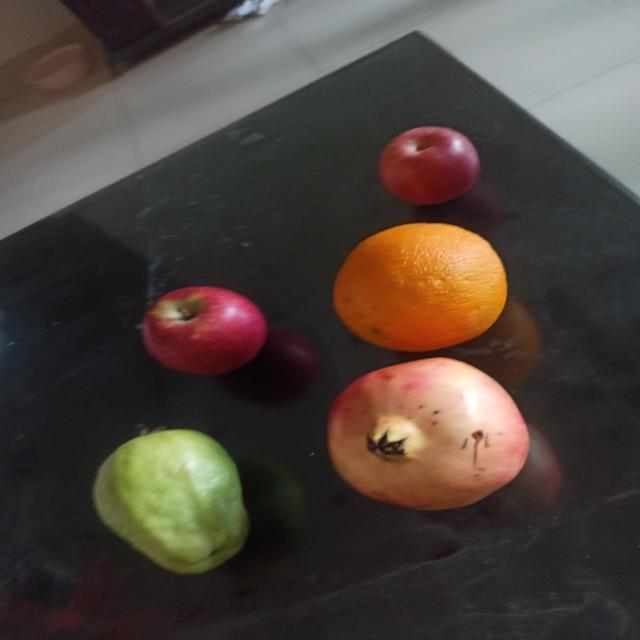apple: (141, 284, 268, 376), (380, 126, 480, 206)
